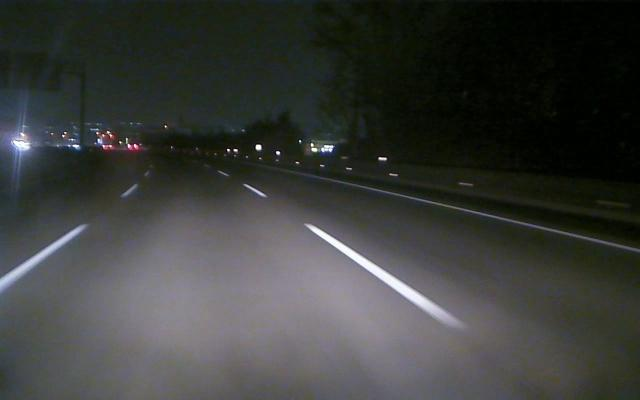lane: (248, 185, 470, 332), (320, 178, 637, 253), (1, 186, 136, 293)
